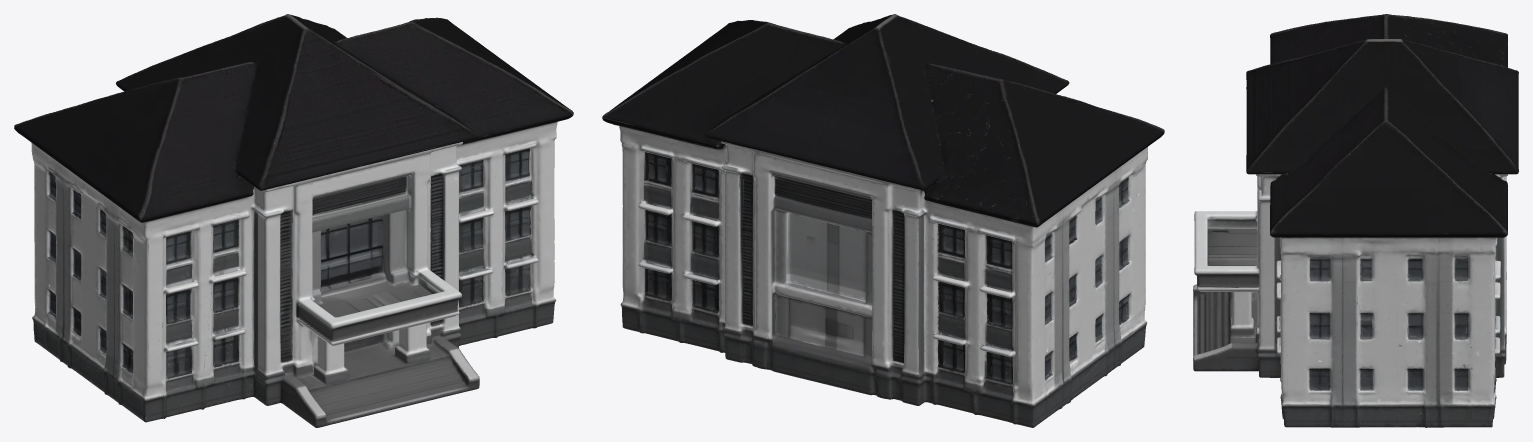
Rendered from disnakertrans.optimized.glb.
3 renders of one model, left to right at view 1: azimuth 30°, elevation 25°; view 2: azimuth 150°, elevation 25°; view 3: azimuth 270°, elevation 25°, orthographic. The views are drawn at different scales.
Parts seen in each view (by area): view 1: geometry_0; view 2: geometry_0; view 3: geometry_0.
Boxes of the visible parts, x1,y1,x2,y2 form: geometry_0: (14,14,573,427); geometry_0: (602,14,1164,427); geometry_0: (1193,14,1518,427).
Bounding box in the file's own units: 1 × 0.6921 × 0.6911.
1 material, 1 textured.
